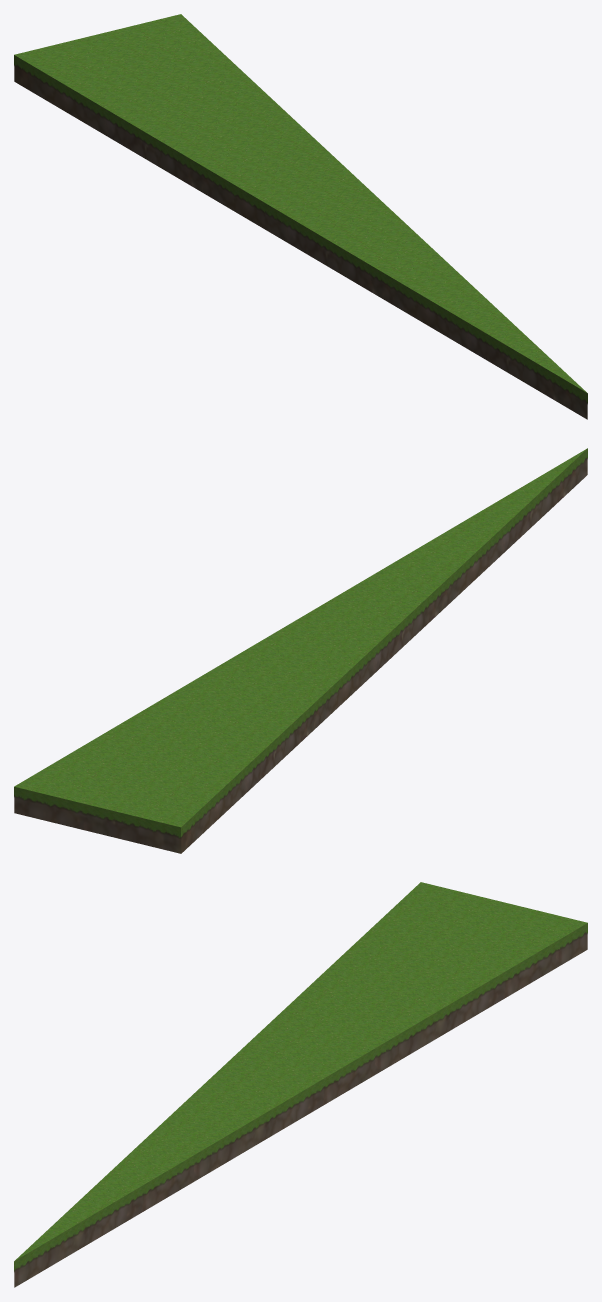
The model's file is Money-Go-Round_TownChunk.glb.
The picture shows the model from 3 angles, top to bottom: view 1: azimuth 30°, elevation 25°; view 2: azimuth 150°, elevation 25°; view 3: azimuth 330°, elevation 25°; orthographic projection.
Visible parts, largest first — view 1: TownChunk; view 2: TownChunk; view 3: TownChunk.
Part boxes in pixels (x1,y1,x2,y2): TownChunk: (14, 14, 587, 419); TownChunk: (14, 448, 587, 853); TownChunk: (14, 882, 587, 1287).
Size of the model in its own units: 0.6557 by 0.1001 by 3.33.
4 materials, 4 textured.
